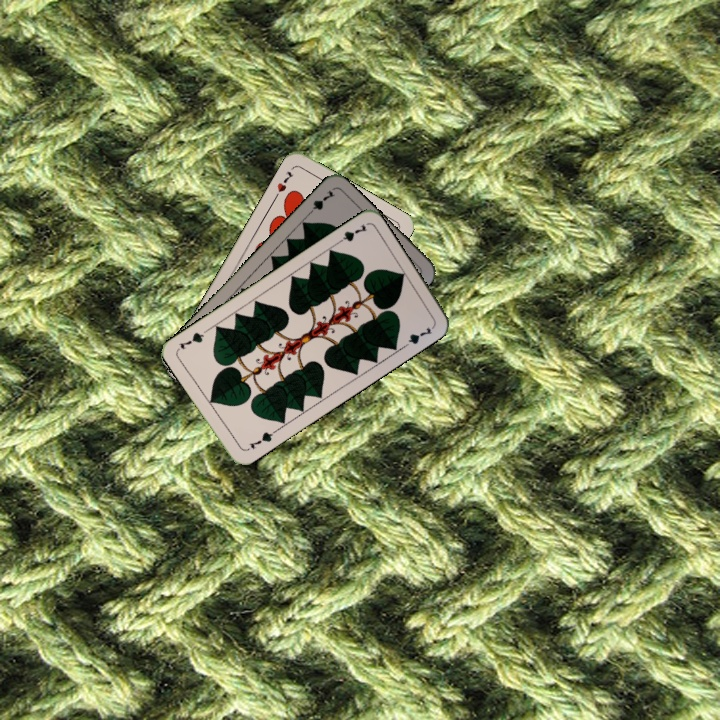G7: (303, 186, 337, 219), (332, 220, 370, 248), (242, 426, 278, 454)
H7: (271, 167, 296, 201)
